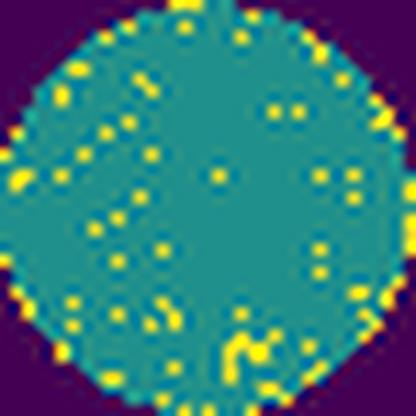Loc: (222, 323, 282, 386)
